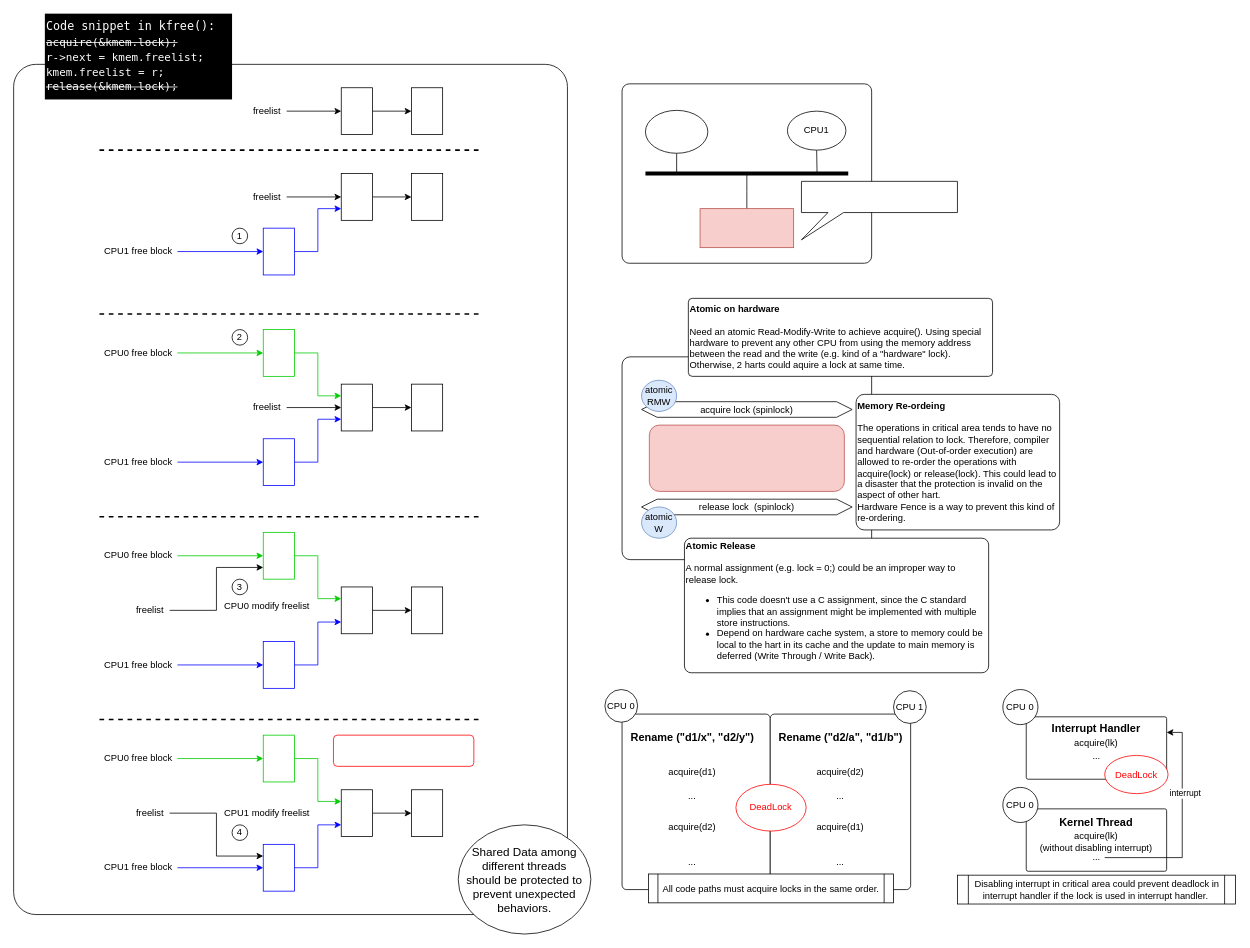
Some shapes in this 1250 by 948 pixel diagram are drawn without their labels. The shapes that lost their labels are listed below. From the top down, each one's centre as x and y in pixels, then its label:
the point at 676,131: CPU0
the point at 746,228: Shared Memory
the point at 879,210: Synchronization Problem "Lock" to protect invariant properties.
the point at 746,457: Critical Section Deal with Shared Data among processes
the point at 403,750: Lost a block in the list
